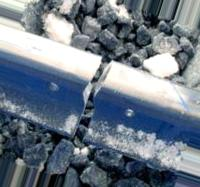tracks_fault: (61, 49, 119, 147)
